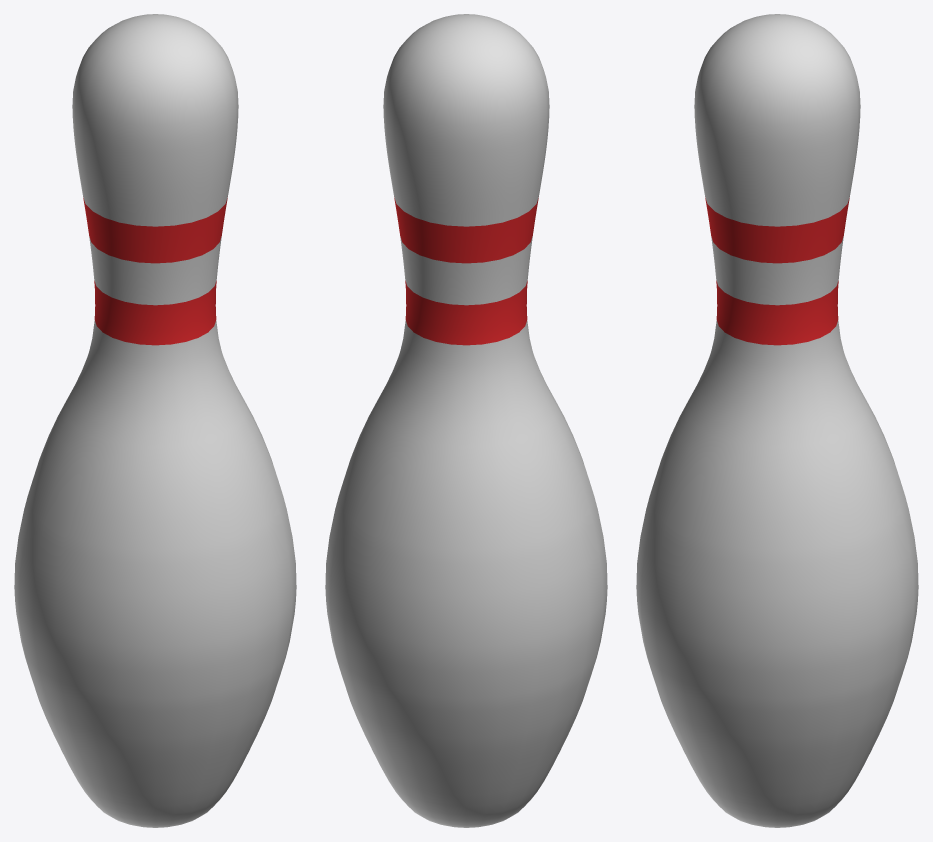
The model's file is Pin.fbx.
The picture shows the model from 3 angles, left to right: view 1: azimuth 30°, elevation 25°; view 2: azimuth 150°, elevation 25°; view 3: azimuth 270°, elevation 25°; orthographic projection.
Parts seen in each view (by area): view 1: BowlingPin; view 2: BowlingPin; view 3: BowlingPin.
Boxes of the visible parts, x1=… form: BowlingPin: x1=14, y1=14, x2=296, y2=827; BowlingPin: x1=325, y1=14, x2=607, y2=827; BowlingPin: x1=636, y1=14, x2=918, y2=827.
Bounding box in the file's own units: 12.27 × 38 × 12.27.
